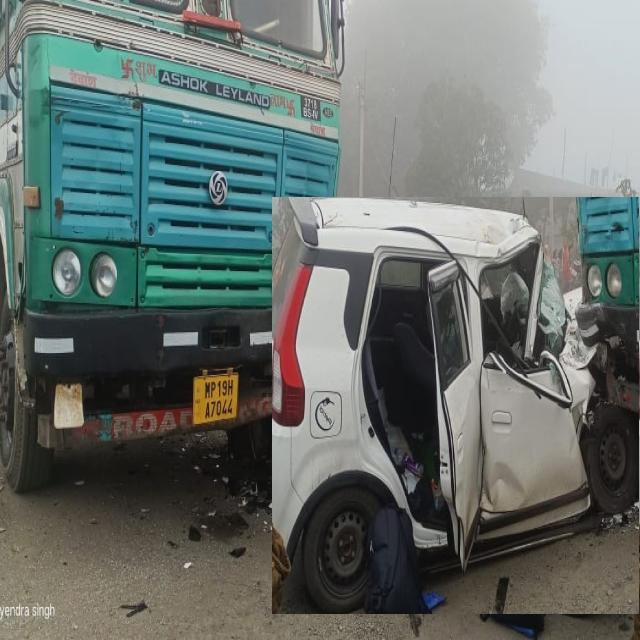accident: (272, 198, 640, 614)
truck: (0, 0, 342, 491)
